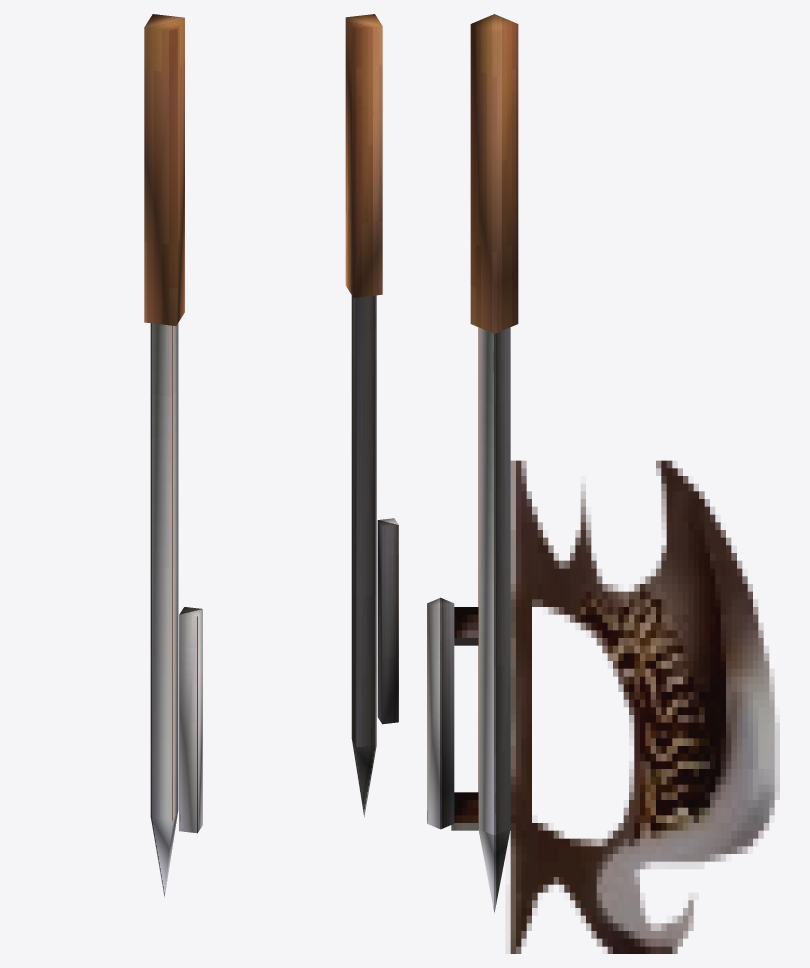
File: Axe05.glb
3 views of the same model, side by side, from view 1: azimuth 30°, elevation 25°; view 2: azimuth 150°, elevation 25°; view 3: azimuth 270°, elevation 25° (orthographic). The views are drawn at different scales.
Visible parts, largest first — view 1: model_Axe05; view 2: model_Axe05; view 3: model_Axe05.
Boxes of the visible parts, x1=… form: model_Axe05: x1=144, y1=14, x2=202, y2=897; model_Axe05: x1=345, y1=14, x2=398, y2=816; model_Axe05: x1=427, y1=14, x2=779, y2=953.
Size of the model in its own units: 0.0554 by 1.19 by 0.4282.
Materials: 2 (2 with a texture image).
